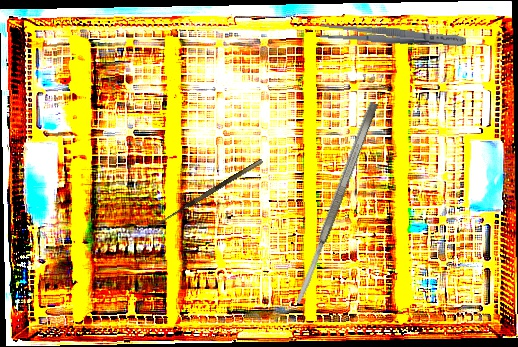Dressing Forceps: (319, 21, 467, 51)
Hook Surgical: (150, 158, 267, 235)
Spatula Surgical: (292, 100, 380, 306)
